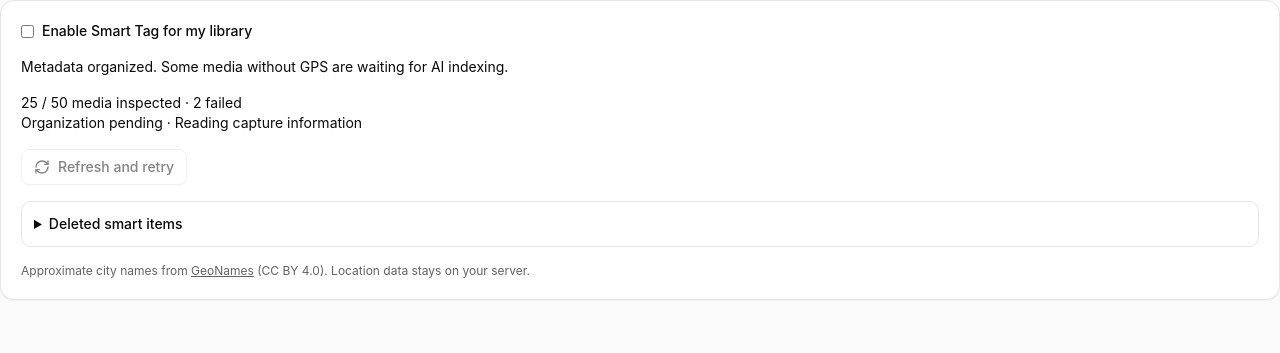
Test: Smart organization settings › keeps the saved toggle on failures and allows retry
What coordinates should you click on to do the following:
click the checkbox labelled "Enable Smart Tag for my library"
I would click on:
 (28, 31)
Its box is [21, 24, 34, 38].
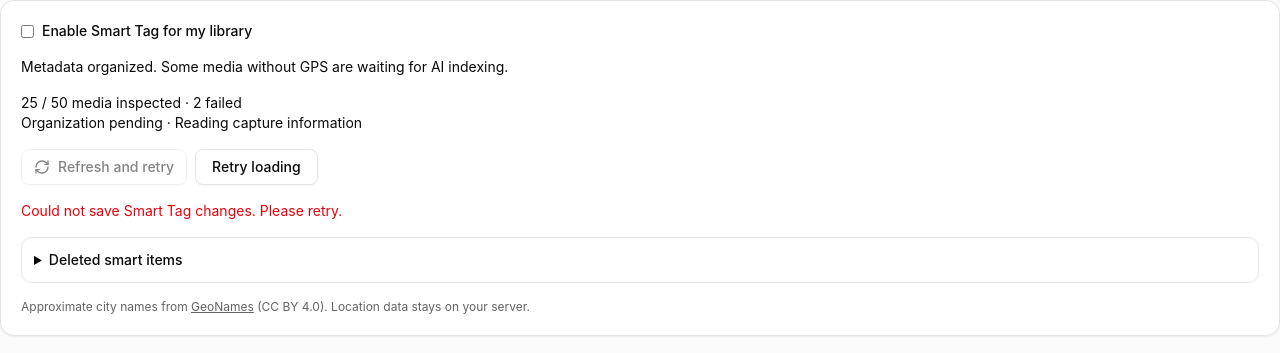
Expected: the element named "Smart Tag settings" shows "Could not save Smart Tag changes", [21, 202, 342, 219]
